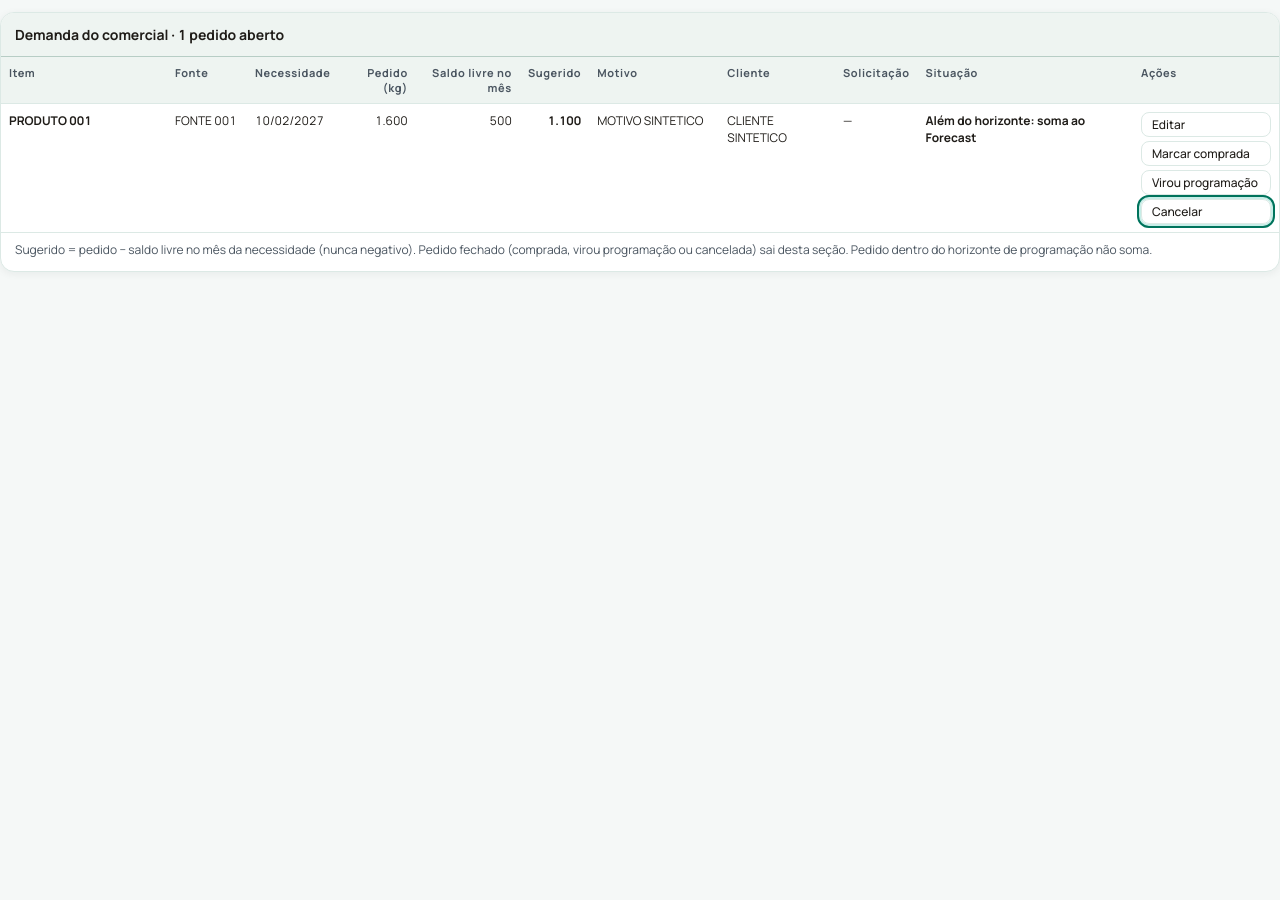
Test: ForecastRelatorioDemandaComercial - fechar o pedido › Voltar fecha sem gravar e devolve o foco ao botao
Click the button with aria-label "Cancelar:".
click(1206, 212)  # box [1141,199,1271,224]
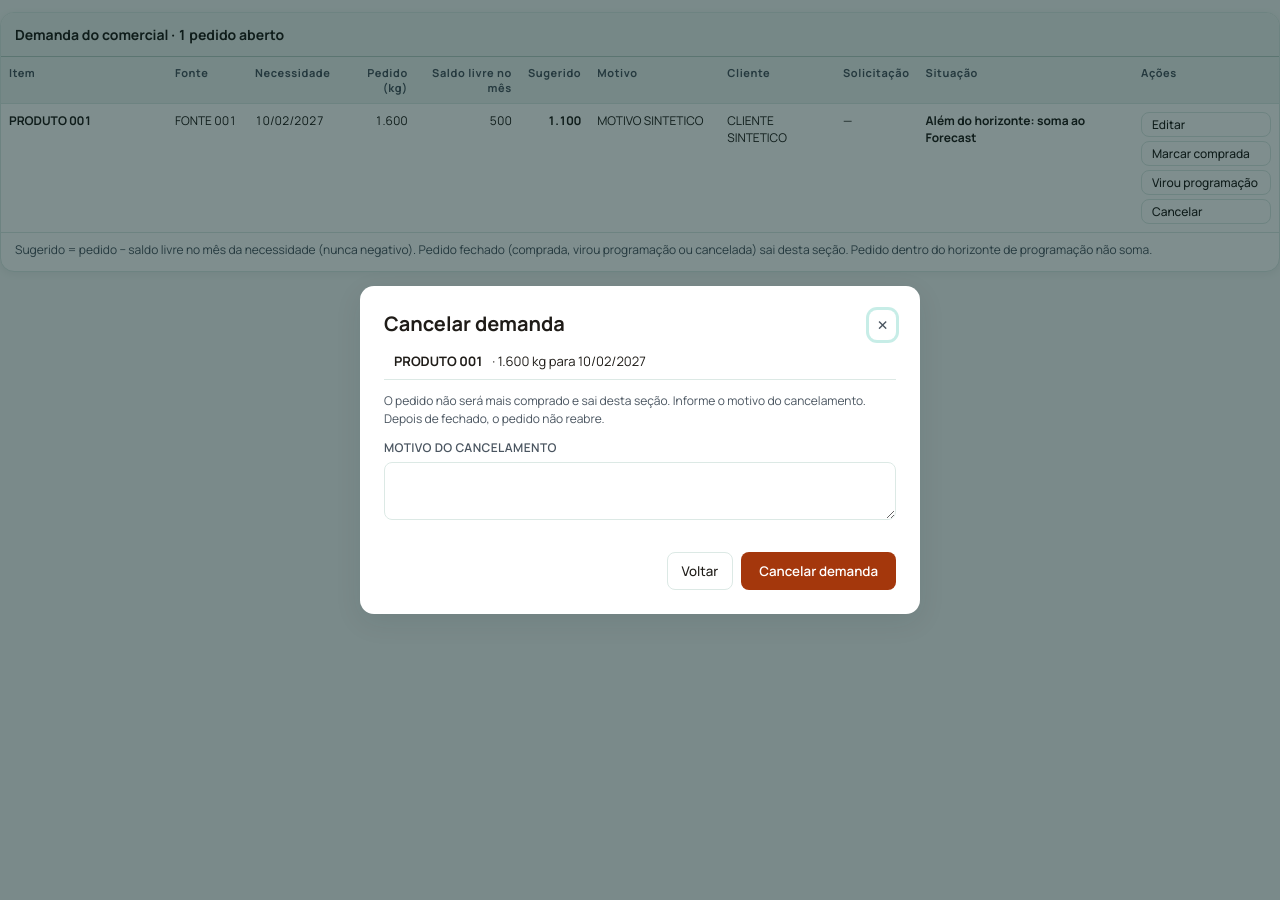
Result: the heading "Cancelar demanda" is shown at [384,310,565,337]
Click the button "Voltar".
click(700, 571)  # box [667,552,733,590]
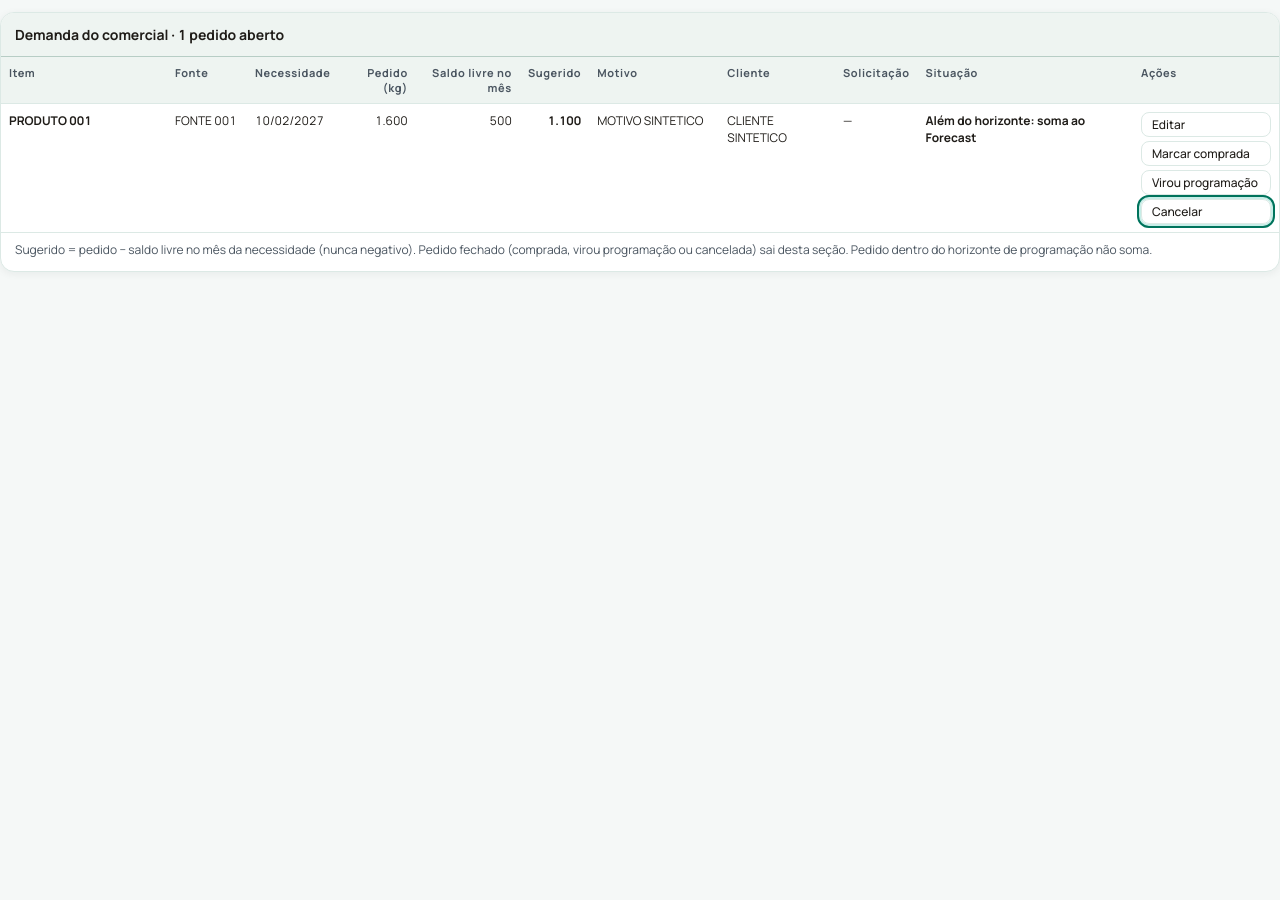
Result: the heading "Cancelar demanda" is gone
